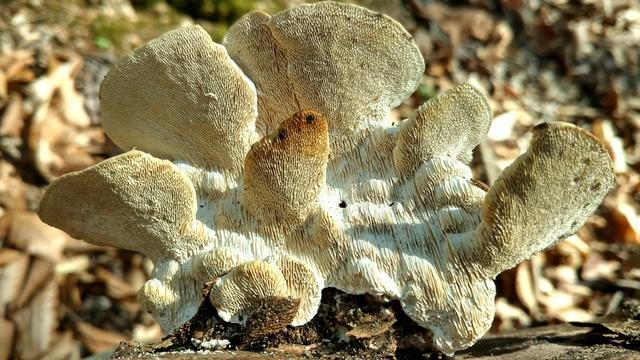Non-edible Mushroom: (36, 1, 615, 356)
